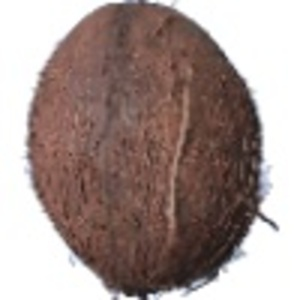coco: (25, 1, 278, 300)
